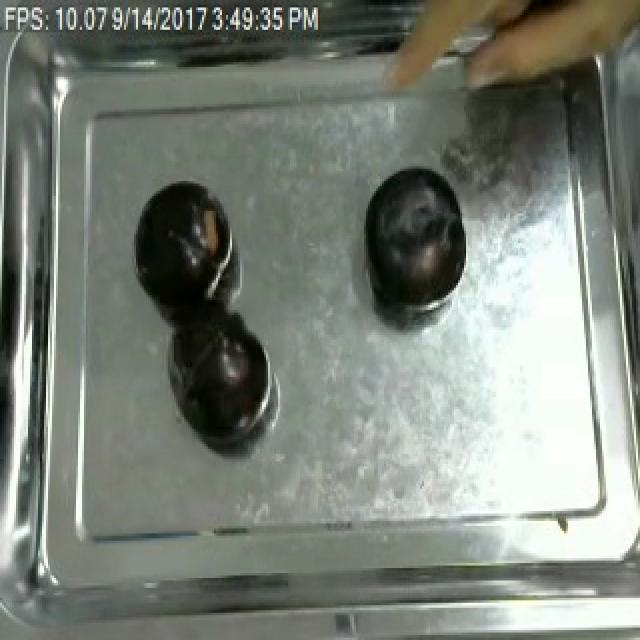Fruit: (356, 158, 472, 318), (130, 176, 228, 310), (170, 320, 262, 442)
